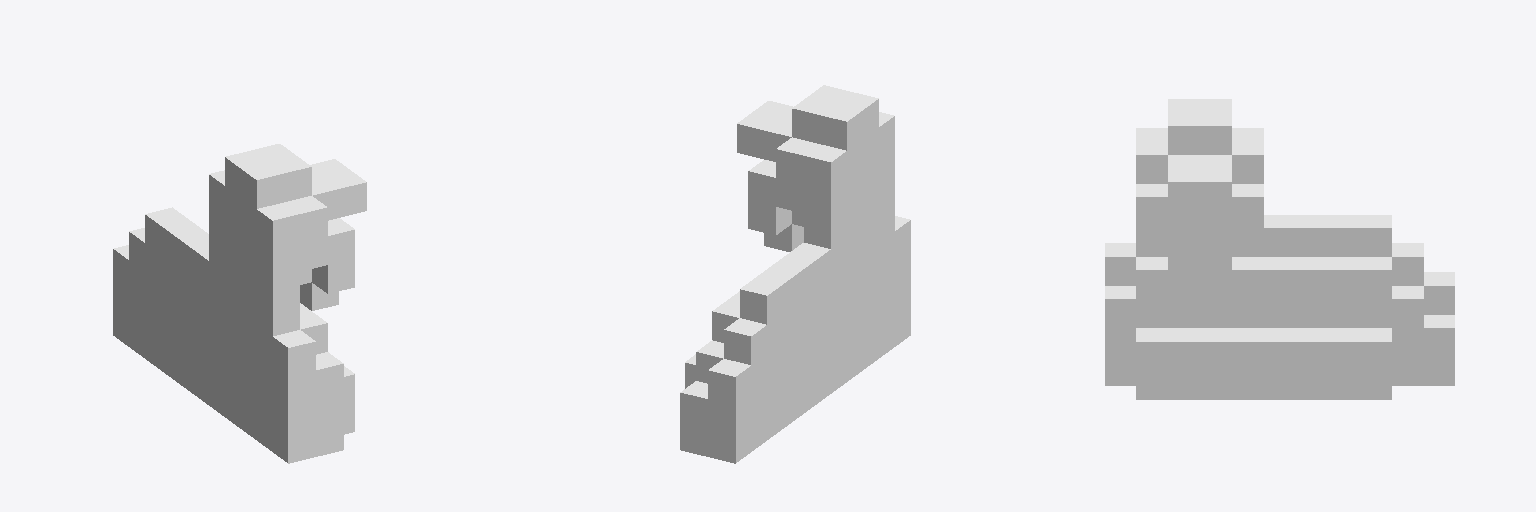
File: generation_of_chaos_1-4.obj
3 views of the same model, side by side, from view 1: azimuth 30°, elevation 25°; view 2: azimuth 150°, elevation 25°; view 3: azimuth 270°, elevation 25° (orthographic).
Visible parts, largest first — view 1: object 1; view 2: object 1; view 3: object 1.
Part boxes in pixels (left/top/right/bottom): object 1: left=113, top=144, right=366, bottom=463; object 1: left=680, top=85, right=910, bottom=463; object 1: left=1105, top=99, right=1454, bottom=399.
Bounding box in the file's own units: 0.4 × 0.9 × 1.1.